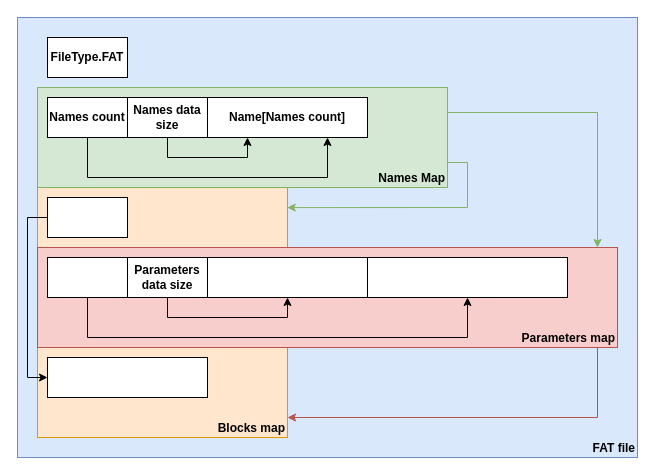
The diagram is 655 pixels wide and 475 high, and some of its shapes have lost their labels. The centre of each missing label's shape, as x and y in pixels:
BlockInfo[Blocks count]: point (127, 377)
Blocks count: point (87, 217)
ParameterInfo[Parameters count]: point (467, 277)
Parameters count: point (87, 277)
Parameters data: point (287, 277)
